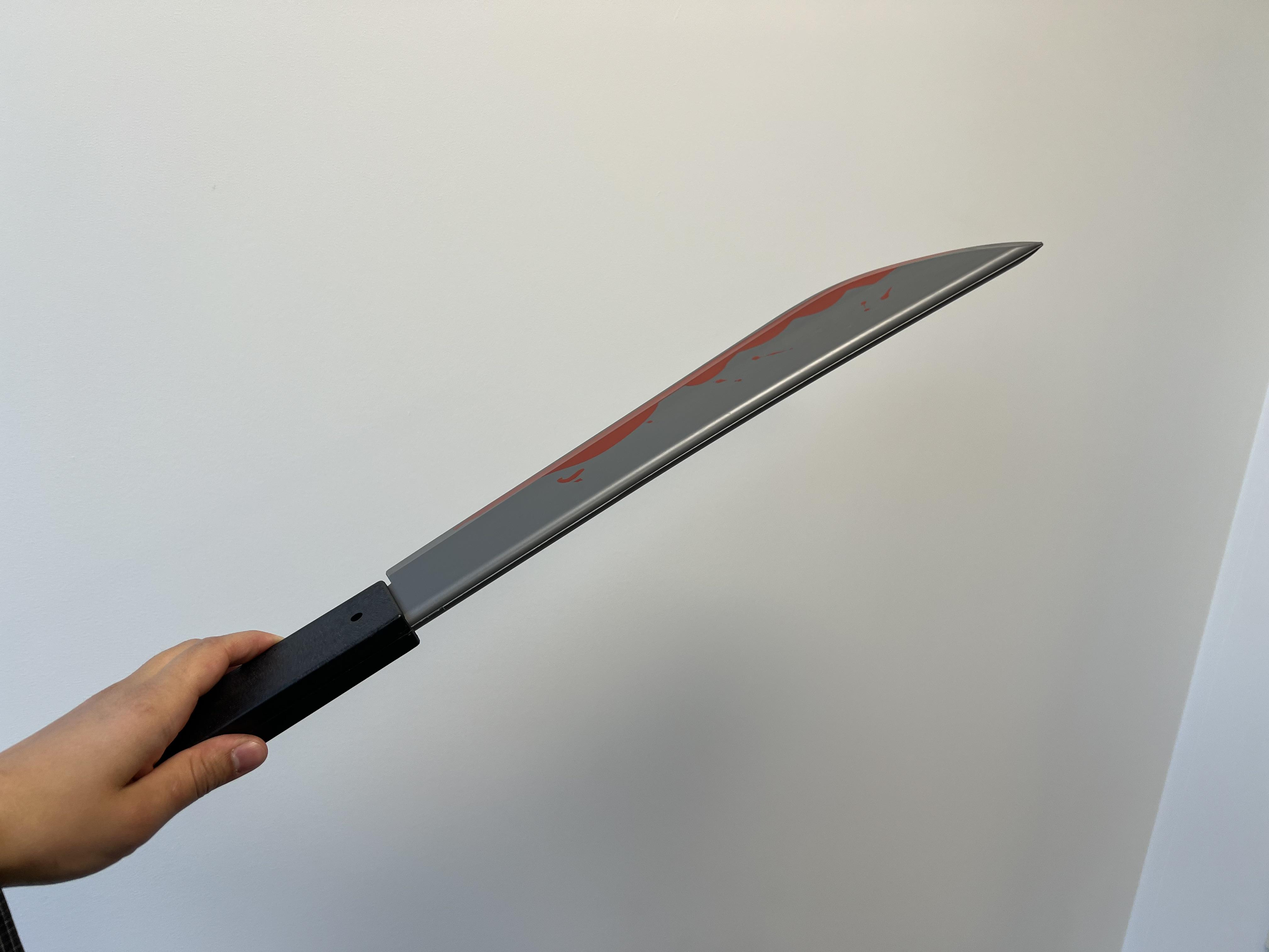Knife: (283, 235, 1046, 716), (0, 633, 276, 891), (0, 632, 287, 867)
